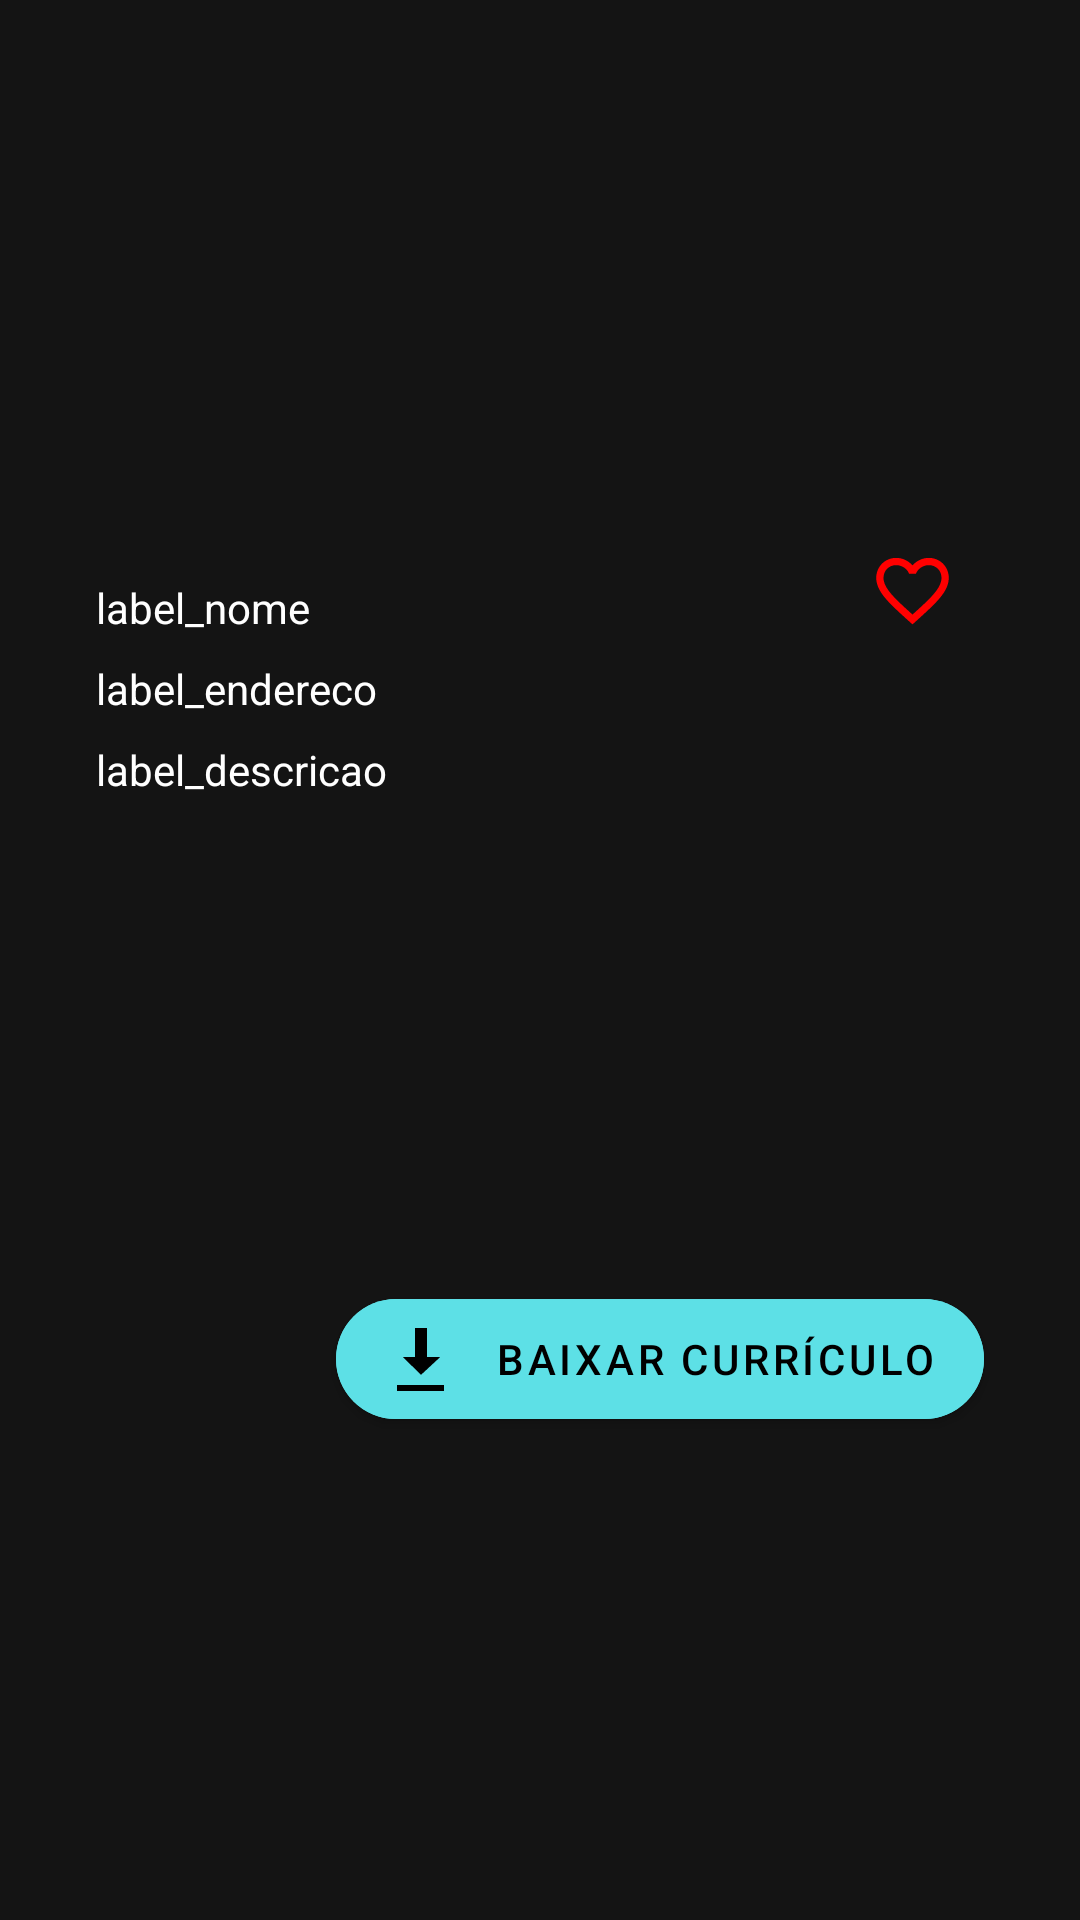

Screen size 1080px×1920px. Icon name, then its box in pixels as [x1,y1,x2,y2]:
favorite border: [876,558,949,625]
